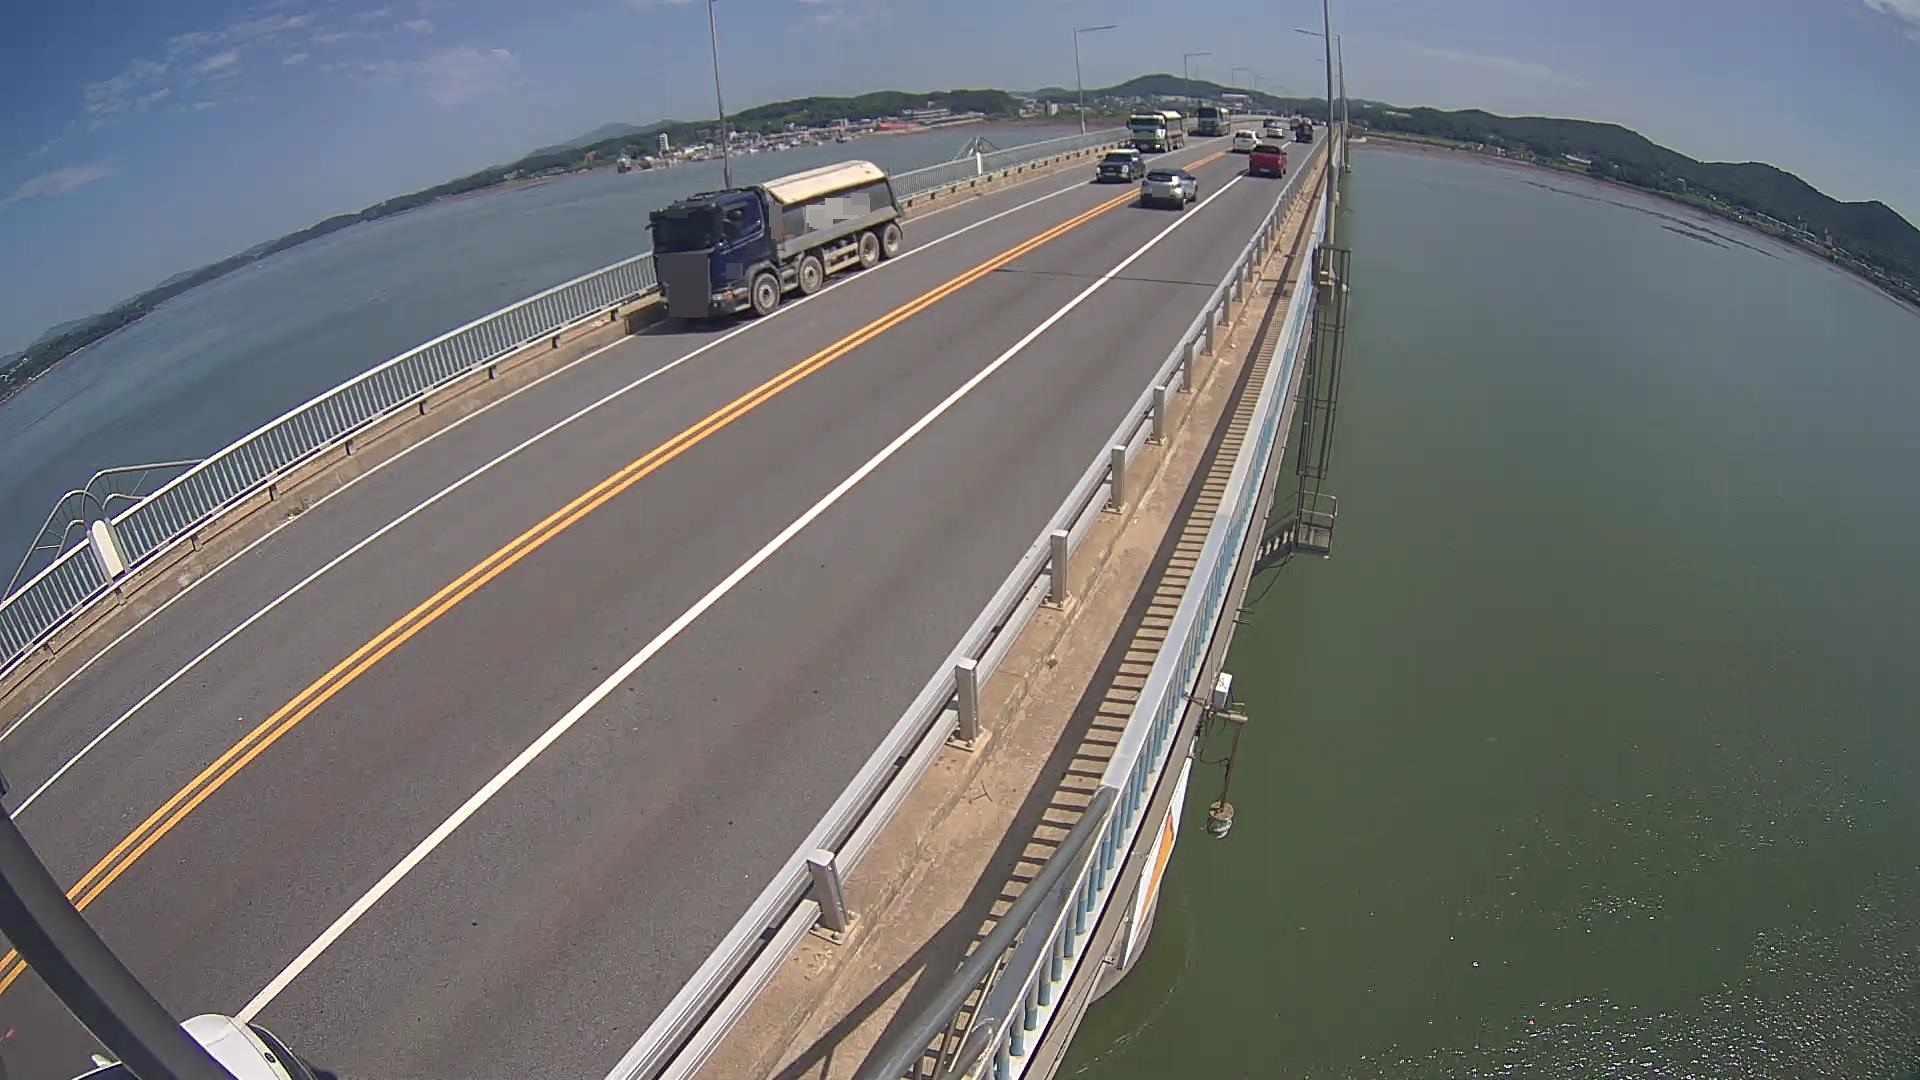정상차량: (644, 160, 905, 315)
